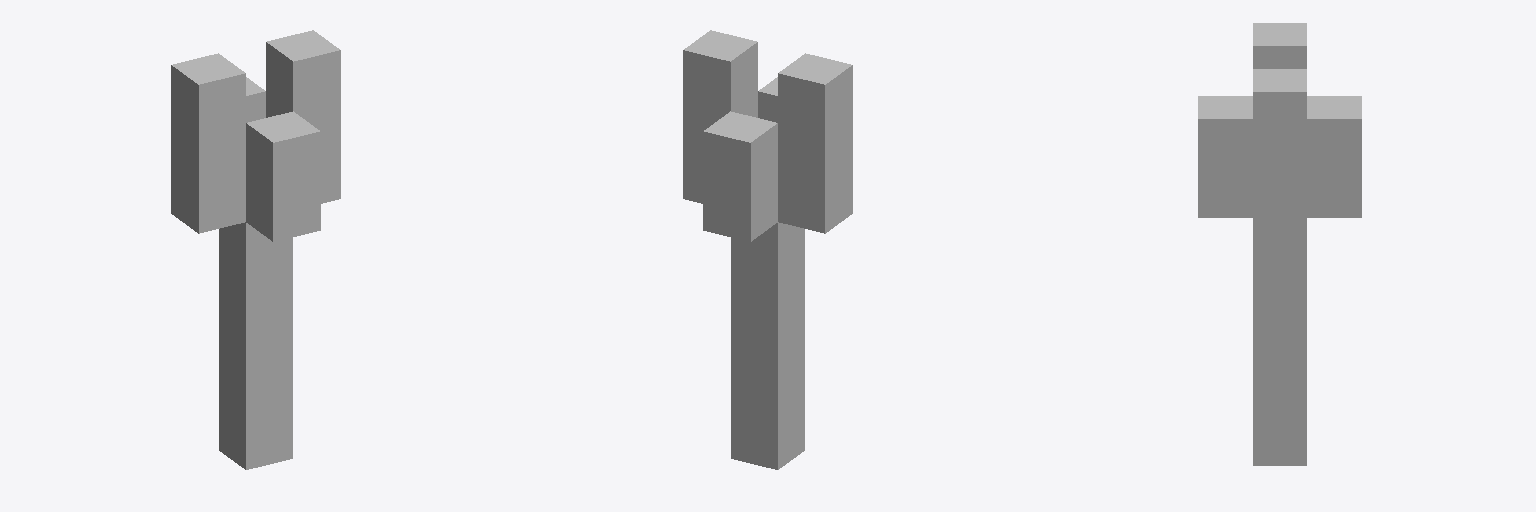
Rendered from Tools Torch.obj.
3 renders of one model, left to right at view 1: azimuth 30°, elevation 25°; view 2: azimuth 150°, elevation 25°; view 3: azimuth 270°, elevation 25°, orthographic.
Parts seen in each view (by area): view 1: object 1; view 2: object 1; view 3: object 1.
Part boxes in pixels (left/top/right/bottom): object 1: left=171, top=30, right=340, bottom=469; object 1: left=683, top=30, right=852, bottom=469; object 1: left=1198, top=23, right=1361, bottom=465.
Size of the model in its own units: 0.3 by 0.8 by 0.3.